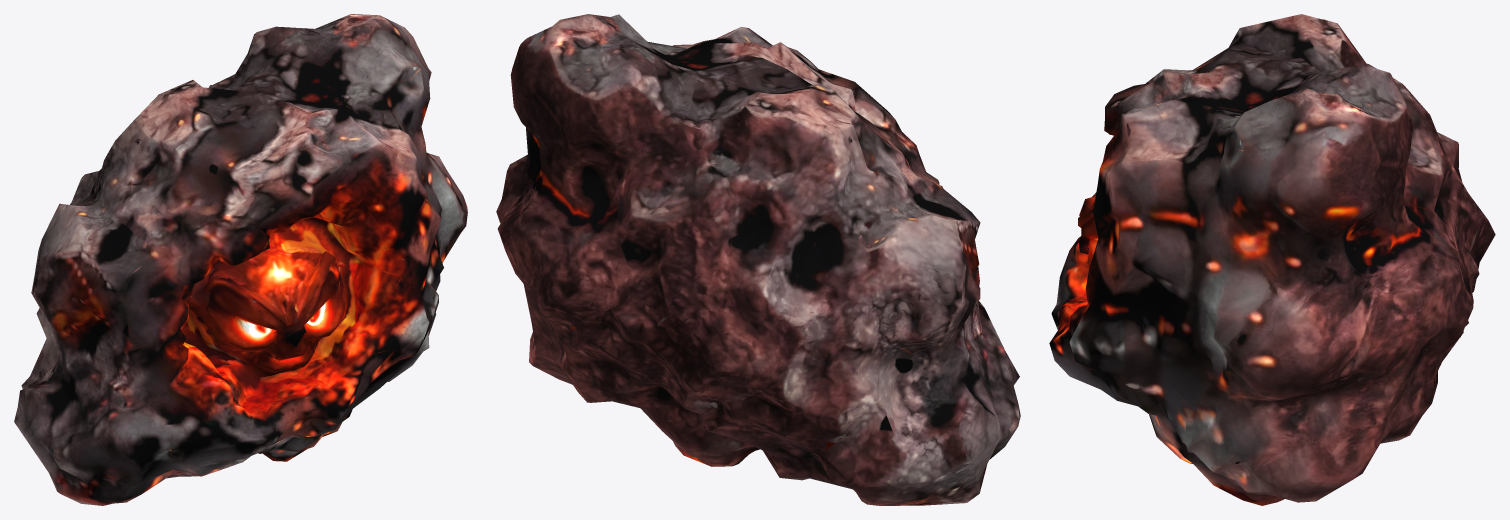
Rendered from Meshy_AI_Infernal_Meteor_0602174212_texture.fbx.
The picture shows the model from 3 angles, left to right: view 1: azimuth 30°, elevation 25°; view 2: azimuth 150°, elevation 25°; view 3: azimuth 270°, elevation 25°; orthographic projection. The views are drawn at different scales.
Parts seen in each view (by area): view 1: Mesh1.0; view 2: Mesh1.0; view 3: Mesh1.0.
Boxes of the visible parts, bbox=[...] form: Mesh1.0: bbox=[14, 14, 467, 505]; Mesh1.0: bbox=[496, 14, 1020, 505]; Mesh1.0: bbox=[1049, 14, 1495, 505].
Size of the model in its own units: 191 by 165 by 144.
1 material, 1 textured.
